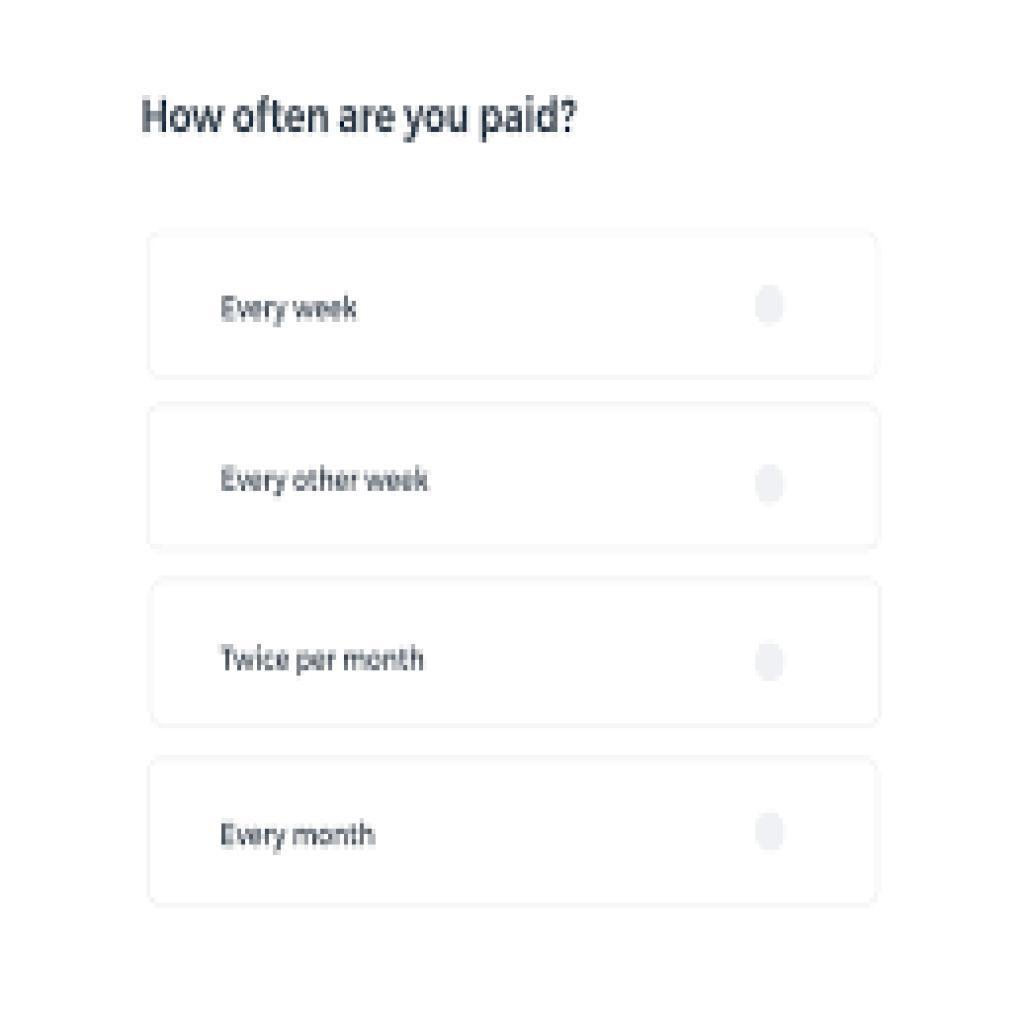radio: (751, 279, 794, 339), (753, 633, 791, 696), (752, 455, 789, 518), (755, 805, 790, 864)
